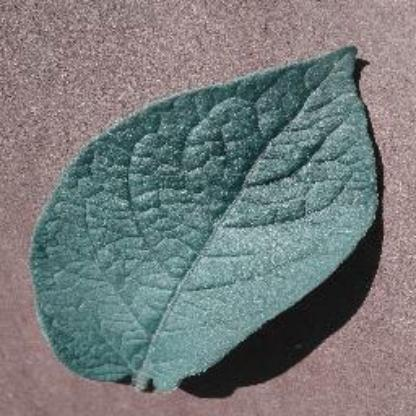Healthy-plant: (25, 46, 378, 394)
